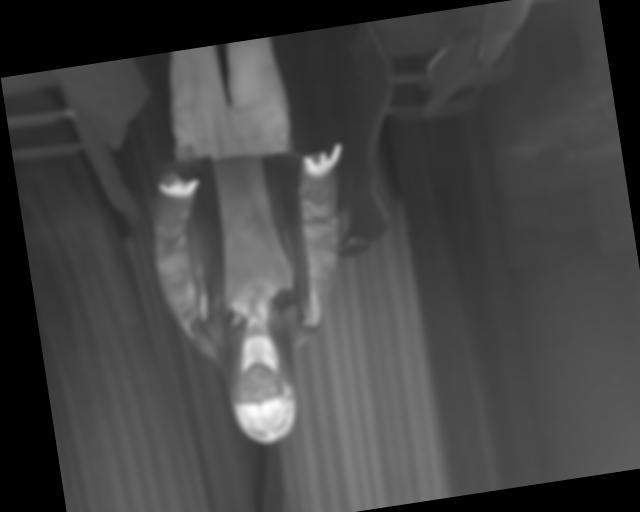face: (392, 162, 473, 262), (239, 137, 300, 215)
